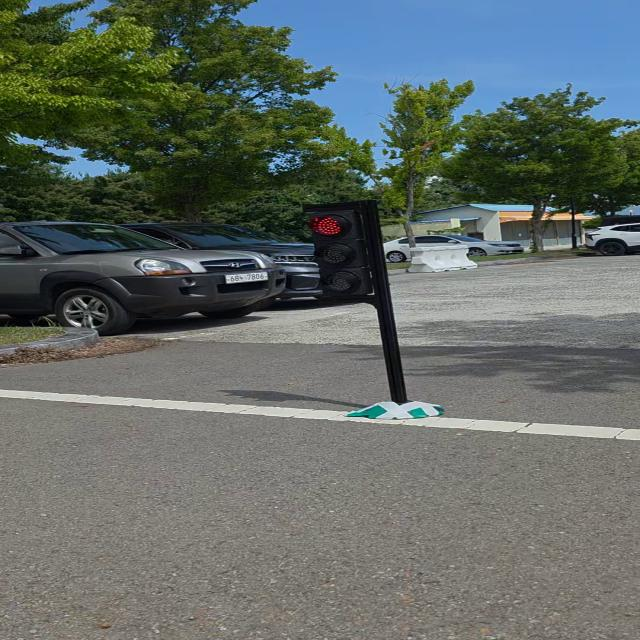red: (298, 204, 386, 304)
